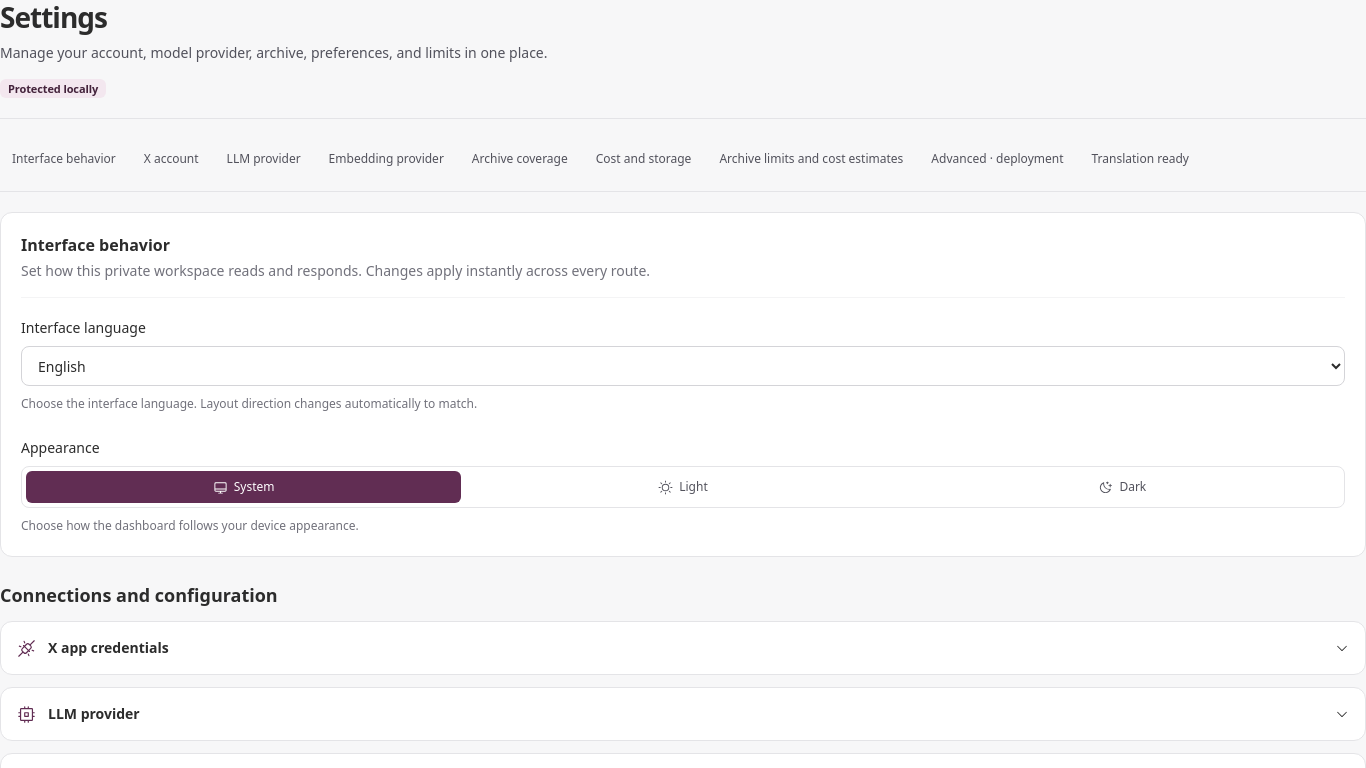
Test case: redesigned dashboard interactions (isolated, no live APIs) › retains six languages, Persian RTL and independent appearance controls
Click the button "Dark". click: (1122, 487)
box: 905,471 -> 1340,503
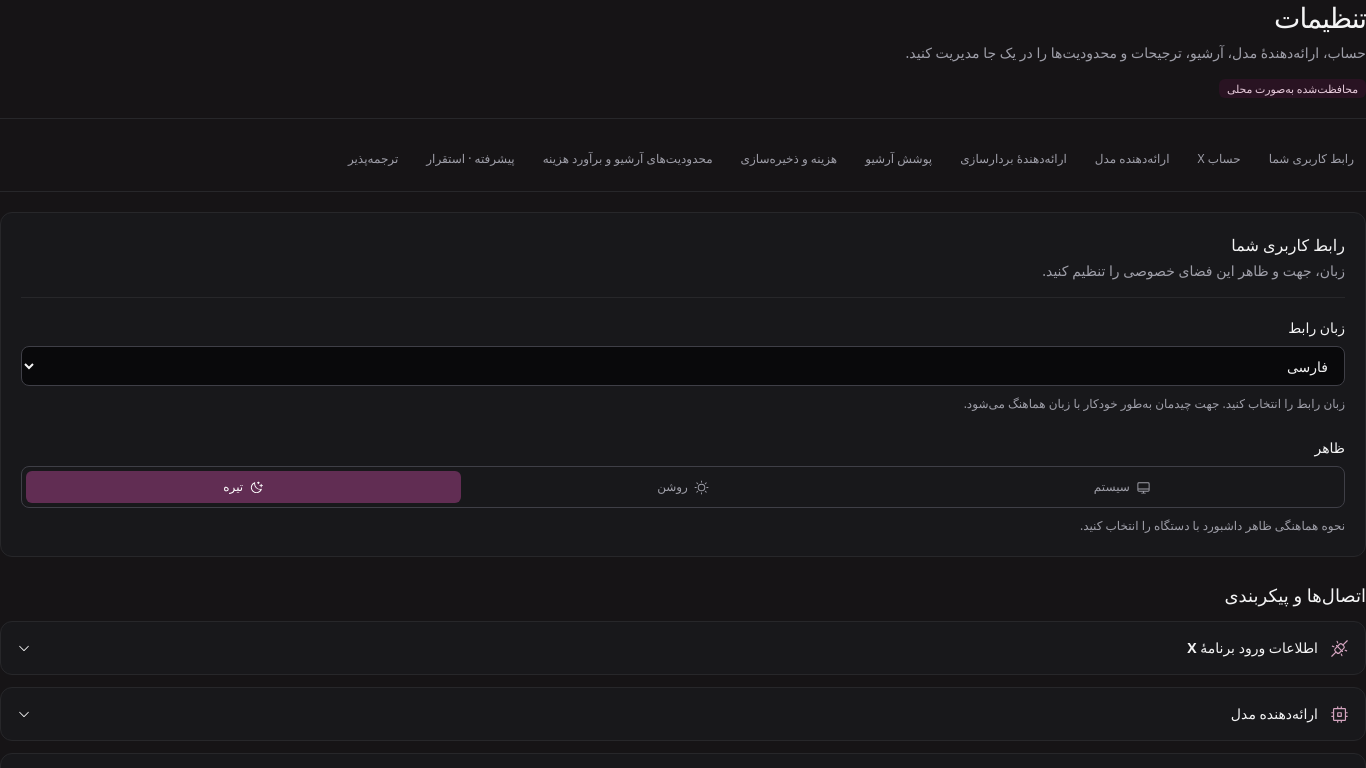
Expected: the dropdown named "زبان رابط" shows "فارسی", 21,346 -> 1345,386
